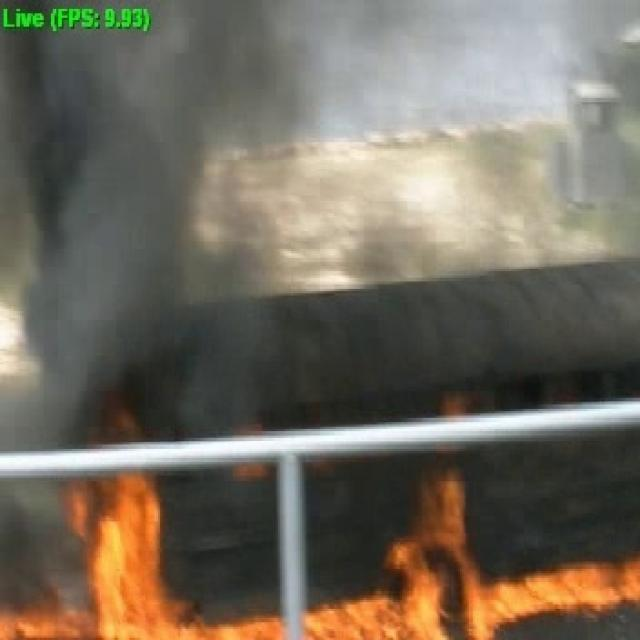Fire: (94, 479, 160, 624), (403, 516, 471, 640)
Smoke: (24, 42, 186, 369)
